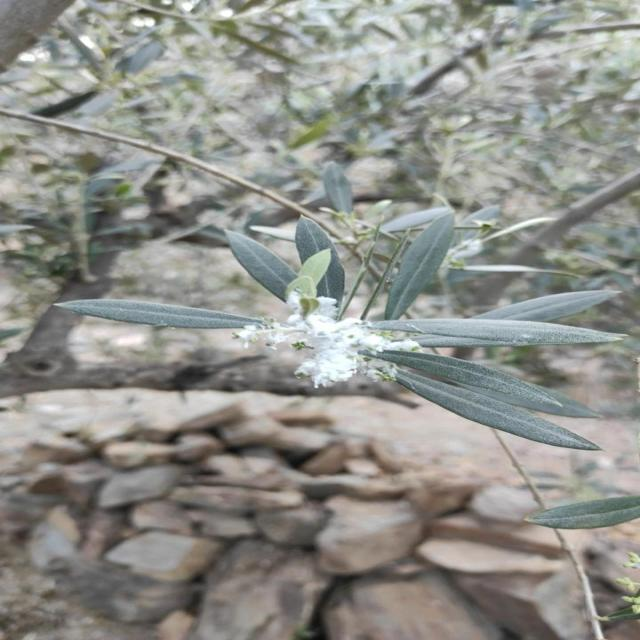Psyllid: (233, 286, 421, 388)
